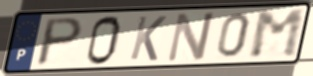0: (84, 14, 125, 66), (215, 11, 253, 60)
K: (127, 14, 169, 63)
M: (248, 7, 307, 61)
N: (164, 10, 217, 64)
P: (33, 15, 86, 68)
